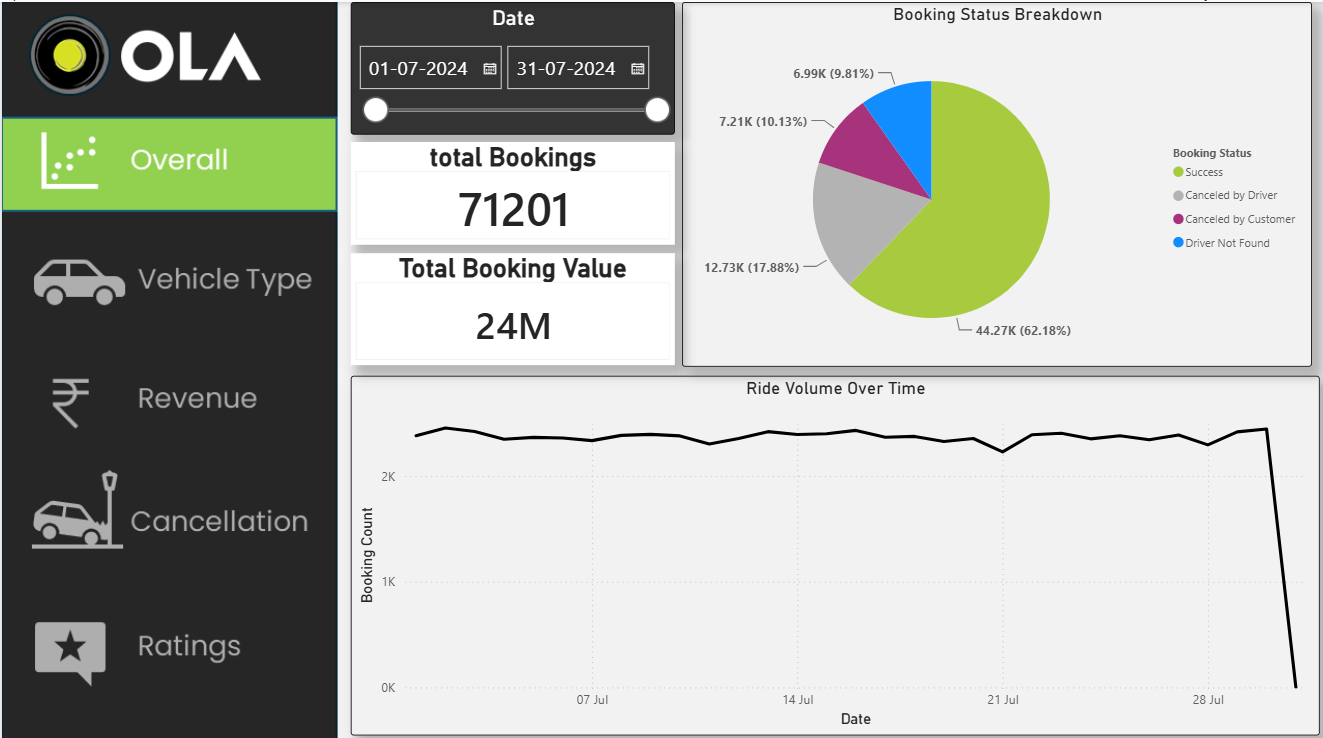

Layout of this report page (visuals, bound fields, positions):
{"tool":"powerbi","page":{"name":"Overall","canvas":[1280,720],"ordinal":0},"visuals":[{"type":"actionButton","box":[0,224,322,91],"z":0},{"type":"actionButton","box":[0,336,322,91],"z":1000},{"type":"actionButton","box":[0,448,322,91],"z":2000},{"type":"actionButton","box":[0,576,322,91],"z":3000},{"type":"lineChart","title":"Ride Volume Over Time","fields":{"Y":["CountNonNull(Bookings.Booking_ID)"],"Category":["Bookings.Date"]},"box":[336,361,935,347],"z":4000},{"type":"pieChart","title":"Booking Status Breakdown","fields":{"Category":["Bookings.Booking_Status"],"Y":["CountNonNull(Bookings.Booking_Status)"]},"box":[656,0,608,352],"z":5000},{"type":"slicer","title":"Date","fields":{"Values":["Bookings.Date"]},"box":[336,0,313,128],"z":6000},{"type":"cardVisual","title":"total Bookings","fields":{"Data":["CountNonNull(Bookings.Booking_ID)"]},"box":[336,135,313,99],"z":7000},{"type":"cardVisual","title":"Total Booking Value","fields":{"Data":["Sum(Bookings.Booking_Value)"]},"box":[336,242,313,108],"z":8000}]}

Visuals, with their boxes in screenshot pixels (x1, y1, x2, y2), scaled from the page's 1280x720 canvas onto the 1323x738 screenshot:
actionButton: (0,230,333,323)
actionButton: (0,344,333,438)
actionButton: (0,459,333,552)
actionButton: (0,590,333,684)
"Ride Volume Over Time" lineChart: (347,370,1314,726)
"Booking Status Breakdown" pieChart: (678,0,1306,361)
"Date" slicer: (347,0,671,131)
"total Bookings" cardVisual: (347,138,671,240)
"Total Booking Value" cardVisual: (347,248,671,359)
